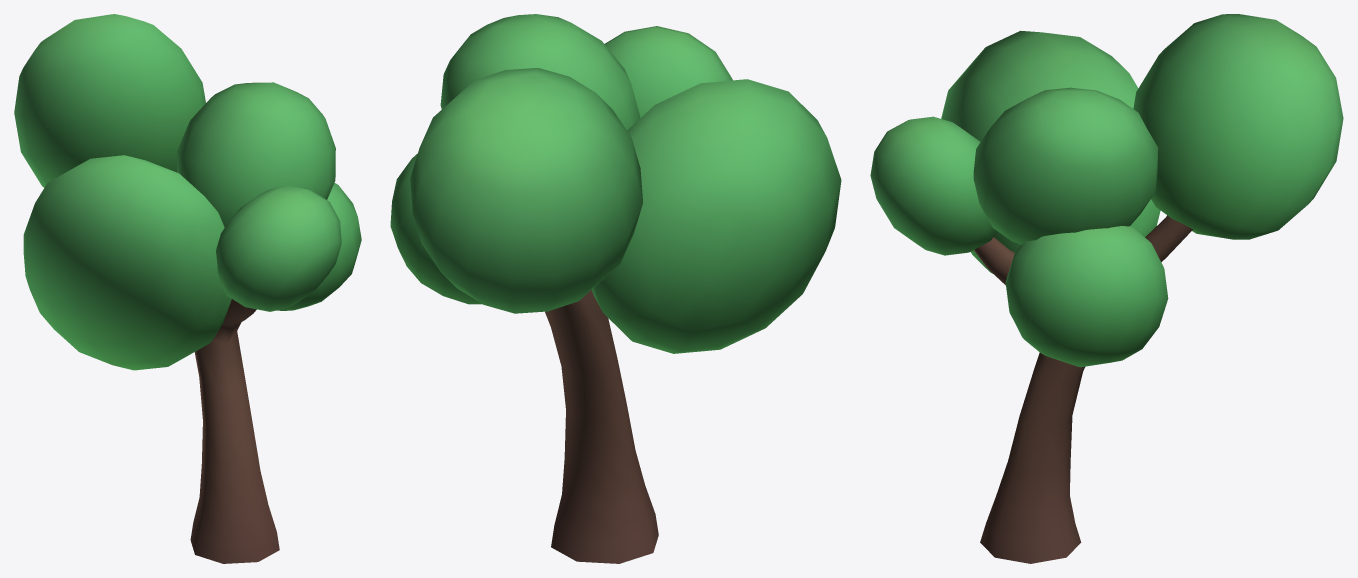
Rendered from Tree4.fbx.
The picture shows the model from 3 angles, left to right: view 1: azimuth 30°, elevation 25°; view 2: azimuth 150°, elevation 25°; view 3: azimuth 270°, elevation 25°; orthographic projection. The views are drawn at different scales.
Parts seen in each view (by area): view 1: Tree1; view 2: Tree1; view 3: Tree1.
Part boxes in pixels (<box>): Tree1: <box>14,14,361,563</box>; Tree1: <box>390,14,841,563</box>; Tree1: <box>870,14,1343,563</box>.
Bounding box in the file's own units: 1121 × 1488 × 1270.
